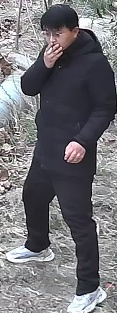smoking: (40, 32, 75, 78)
